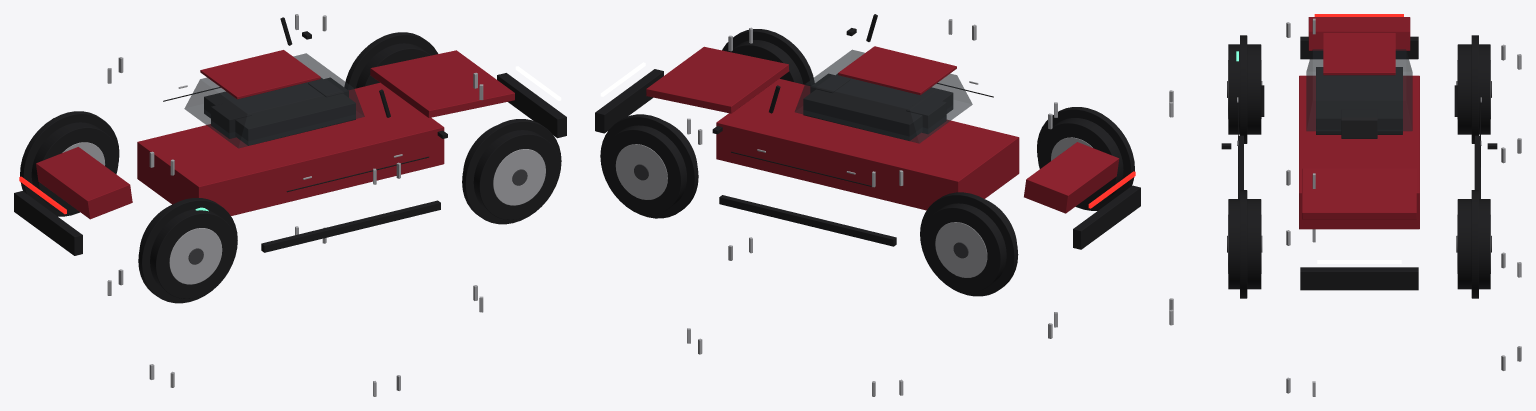
Rendered from EV_Red.glb.
The picture shows the model from 3 angles, left to right: view 1: azimuth 30°, elevation 25°; view 2: azimuth 150°, elevation 25°; view 3: azimuth 270°, elevation 25°; orthographic projection. The views are drawn at different scales.
Visible parts, largest first — view 1: EV_Red; view 2: EV_Red; view 3: EV_Red.
Boxes of the visible parts, <box> form: EV_Red: <box>14,14,566,396</box>; EV_Red: <box>595,14,1140,396</box>; EV_Red: <box>1169,14,1521,396</box>.
Size of the model in its own units: 4.61 by 2.29 by 2.89.
